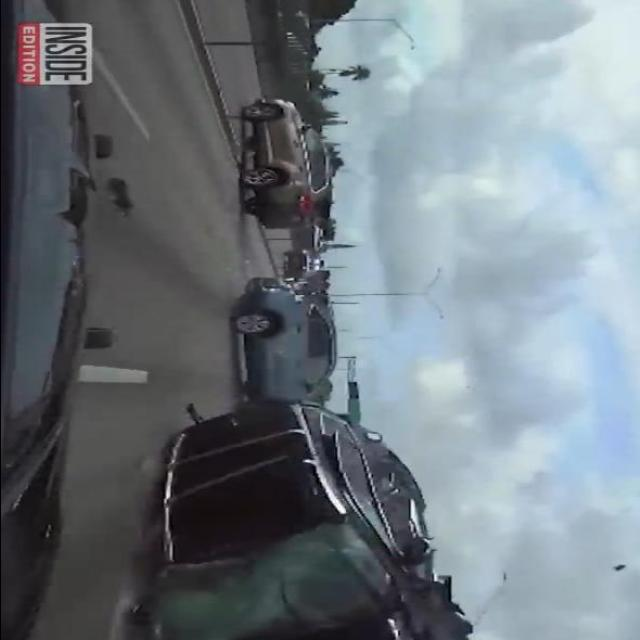accident: (139, 389, 511, 639)
